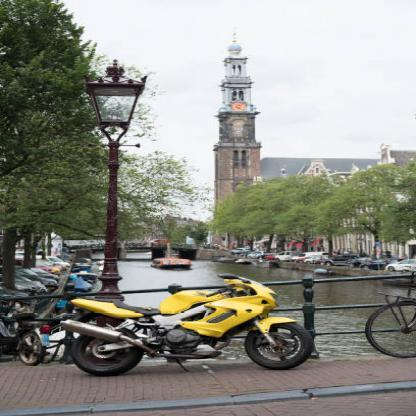Motorcycle: (53, 271, 312, 371)
